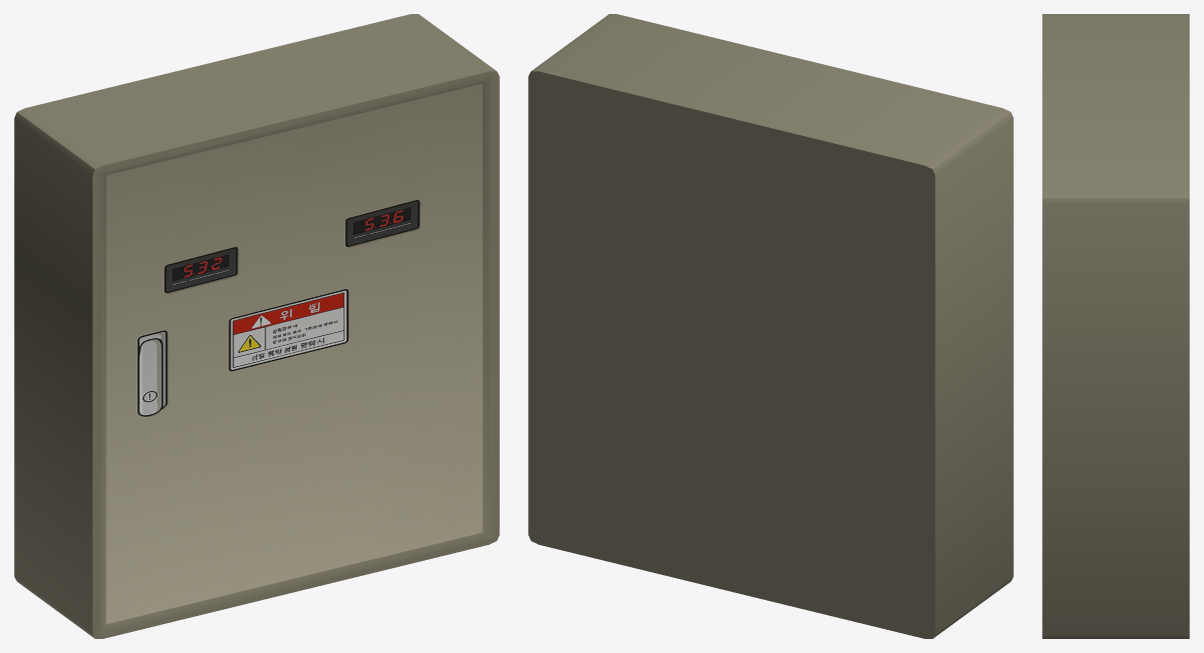
3 views of the same model, side by side, from view 1: azimuth 30°, elevation 25°; view 2: azimuth 150°, elevation 25°; view 3: azimuth 270°, elevation 25° (orthographic). The views are drawn at different scales.
Visible parts, largest first — view 1: RM1-WH05W045D015; view 2: RM1-WH05W045D015; view 3: RM1-WH05W045D015.
Part boxes in pixels (x1,y1,x2,y2): RM1-WH05W045D015: [14, 14, 499, 638]; RM1-WH05W045D015: [528, 14, 1013, 638]; RM1-WH05W045D015: [1042, 14, 1189, 638].
Size of the model in its own units: 0.45 by 0.5 by 0.15.
2 materials, 1 textured.
